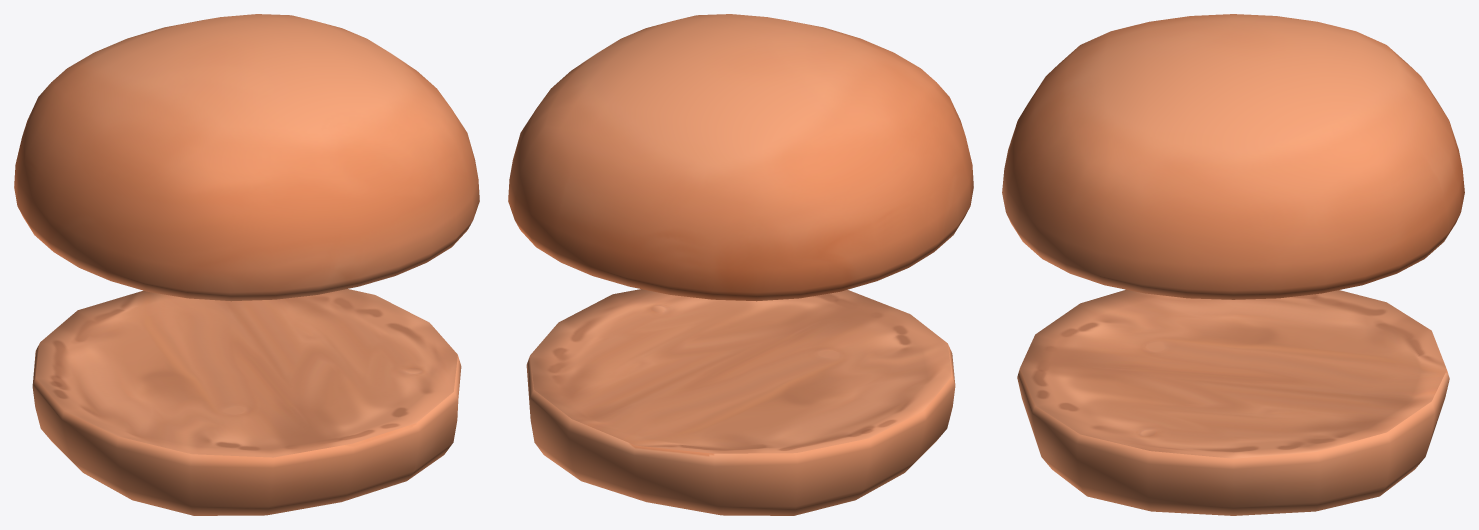
File: buns.glb
3 views of the same model, side by side, from view 1: azimuth 30°, elevation 25°; view 2: azimuth 150°, elevation 25°; view 3: azimuth 270°, elevation 25° (orthographic).
Parts seen in each view (by area): view 1: Bun; view 2: Bun; view 3: Bun.
Boxes of the visible parts, x1,y1,x2,y2 form: Bun: (14, 14, 479, 515); Bun: (508, 14, 973, 515); Bun: (1002, 14, 1464, 515).
Size of the model in its own units: 1.52 by 1.43 by 1.52.
Materials: 1 (1 with a texture image).
